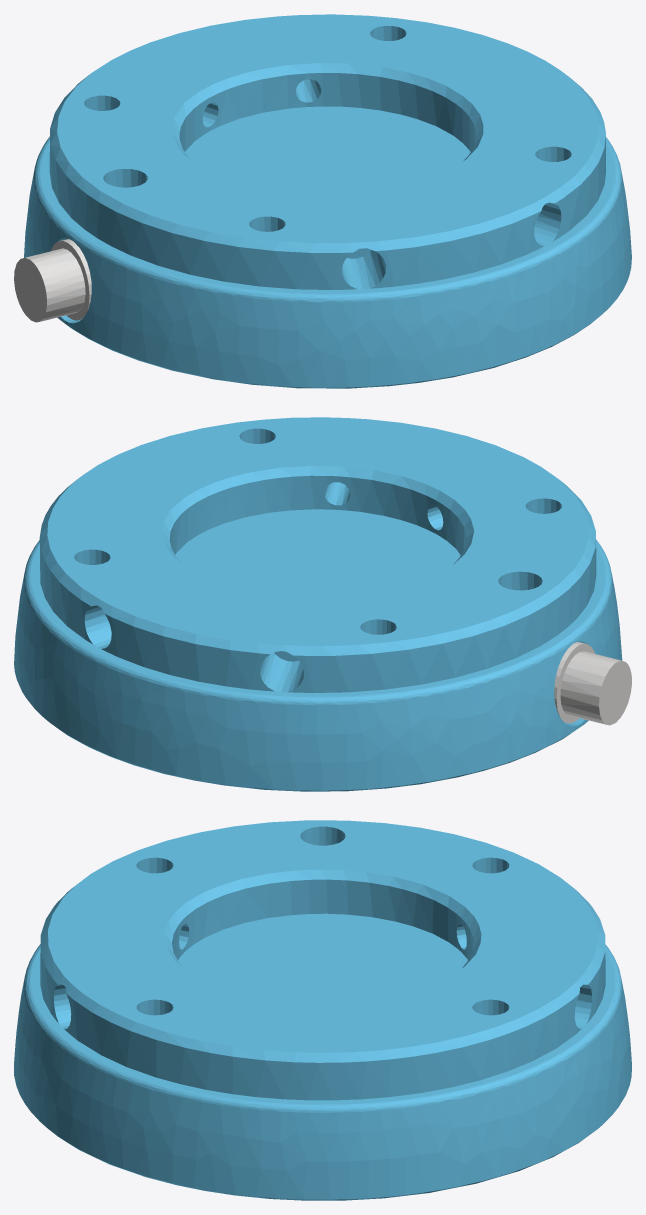
3 renders of one model, top to bottom at view 1: azimuth 30°, elevation 25°; view 2: azimuth 150°, elevation 25°; view 3: azimuth 270°, elevation 25°, orthographic.
Parts seen in each view (by area): view 1: Untitled_020; view 2: Untitled_020; view 3: Untitled_020.
Boxes of the visible parts, left/top/right/bottom form: Untitled_020: left=14, top=14, right=631, bottom=388; Untitled_020: left=14, top=417, right=631, bottom=791; Untitled_020: left=14, top=820, right=631, bottom=1200.
Bounding box in the file's own units: 0.0873 × 0.082 × 0.0197.
